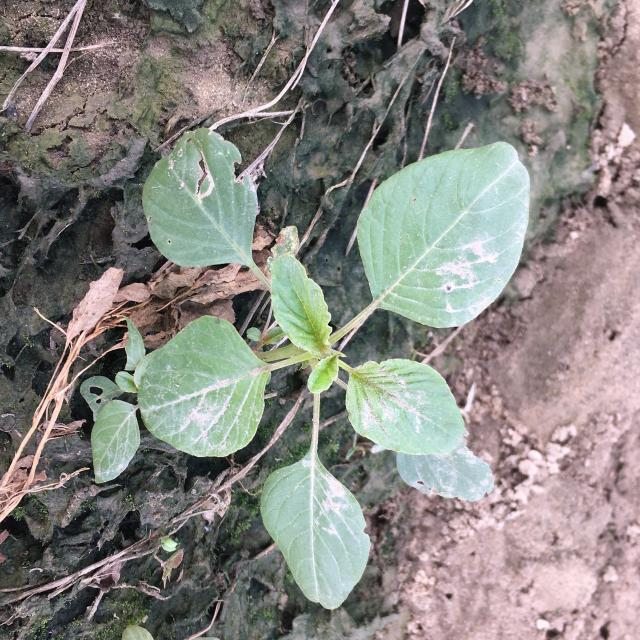PalmerAmaranth: (79, 128, 530, 610)
